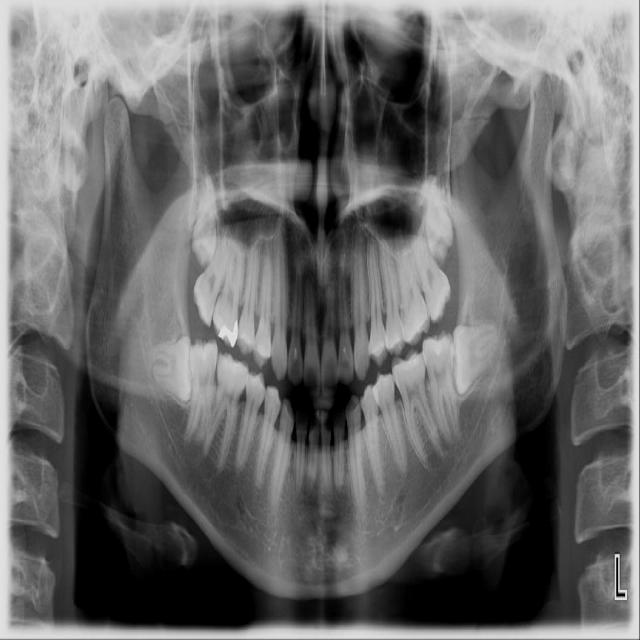Filling: (218, 322, 239, 348)
impacted tooth: (413, 178, 455, 262), (453, 323, 500, 395), (144, 338, 193, 401), (191, 165, 219, 264)
